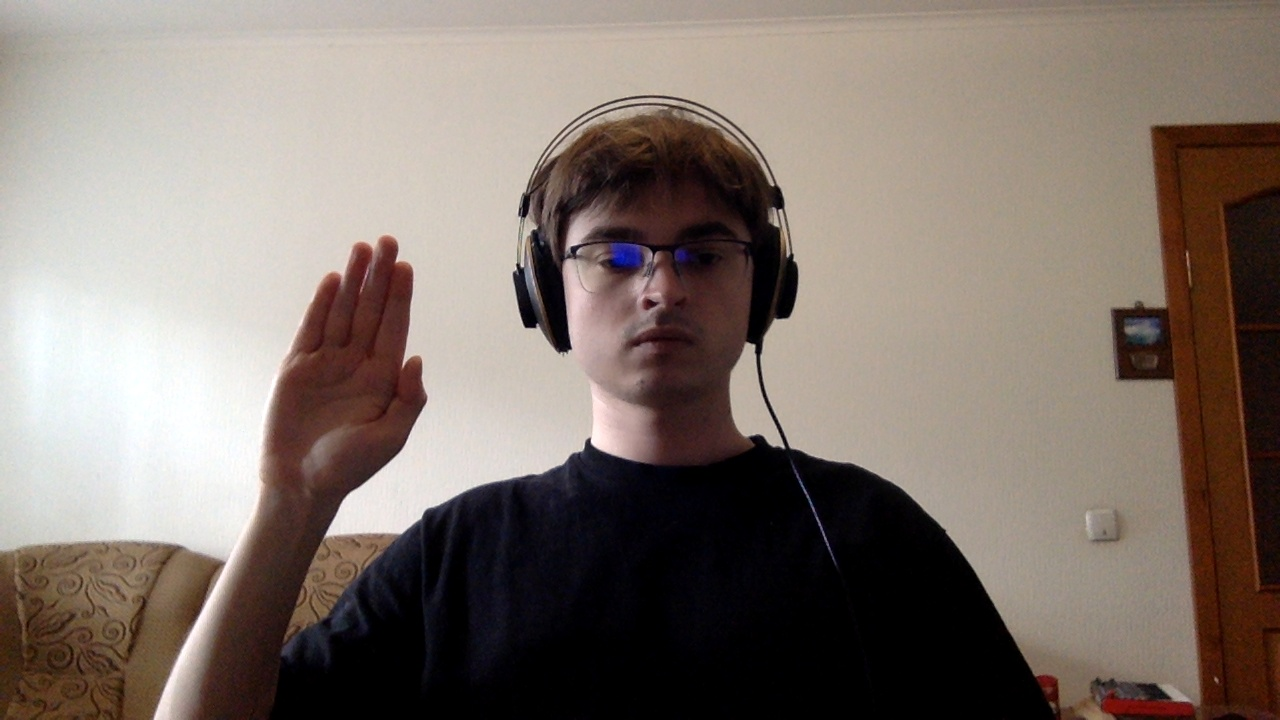hello: (242, 216, 466, 531)
